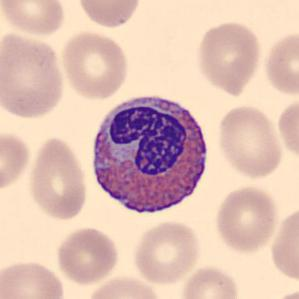Eosinophil: (86, 85, 216, 224)
RBC: (0, 29, 68, 122), (26, 134, 90, 222), (194, 18, 264, 97), (58, 28, 131, 101), (215, 104, 285, 180), (130, 218, 203, 285), (212, 183, 280, 254), (54, 225, 120, 286), (0, 257, 68, 299), (260, 29, 299, 98), (0, 0, 69, 38), (268, 203, 298, 285), (178, 263, 242, 299), (0, 128, 33, 194), (85, 273, 166, 299), (75, 0, 143, 29), (275, 96, 298, 162), (270, 286, 299, 299)
